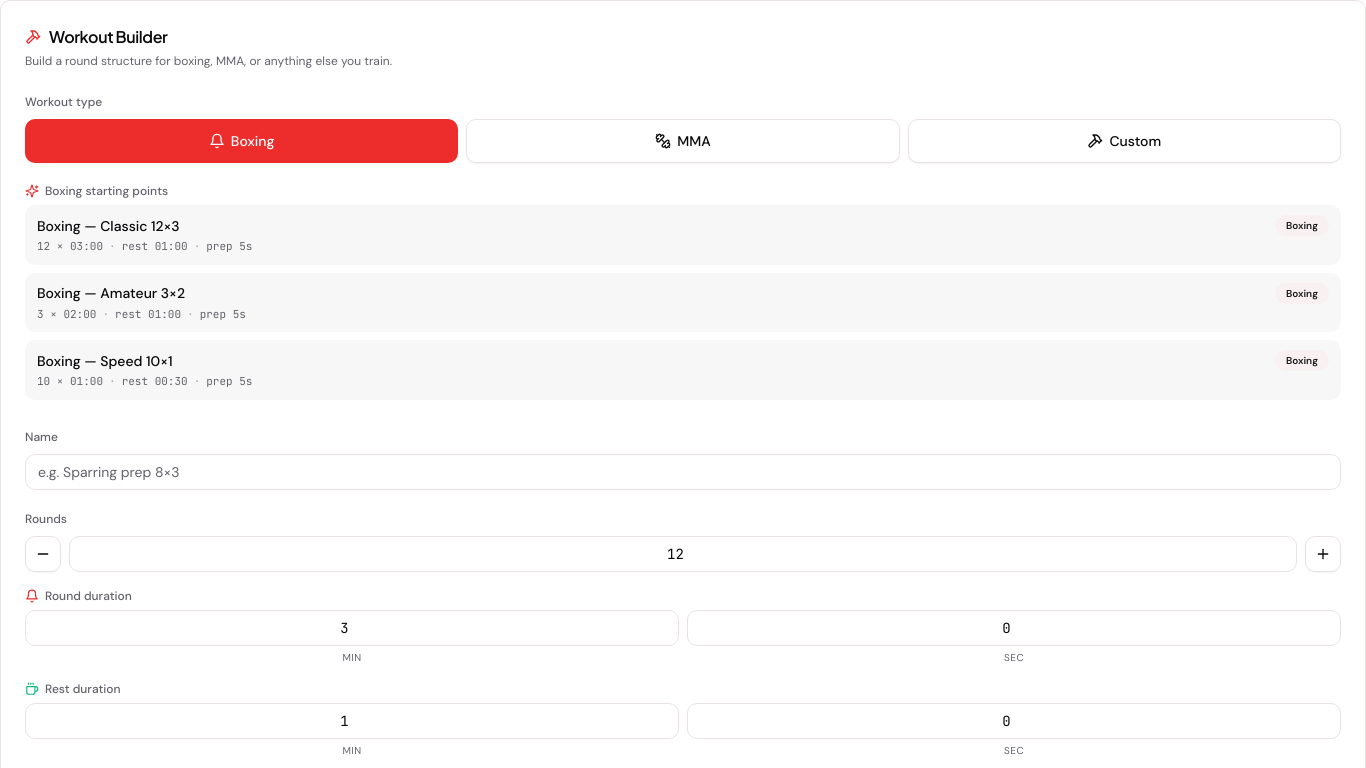
WorkoutBuilder › loads a starting point into the editable fields
The image size is (1366, 768).
Click the text "Boxing — Speed 10×1".
click(105, 360)  # box [37,350,173,370]
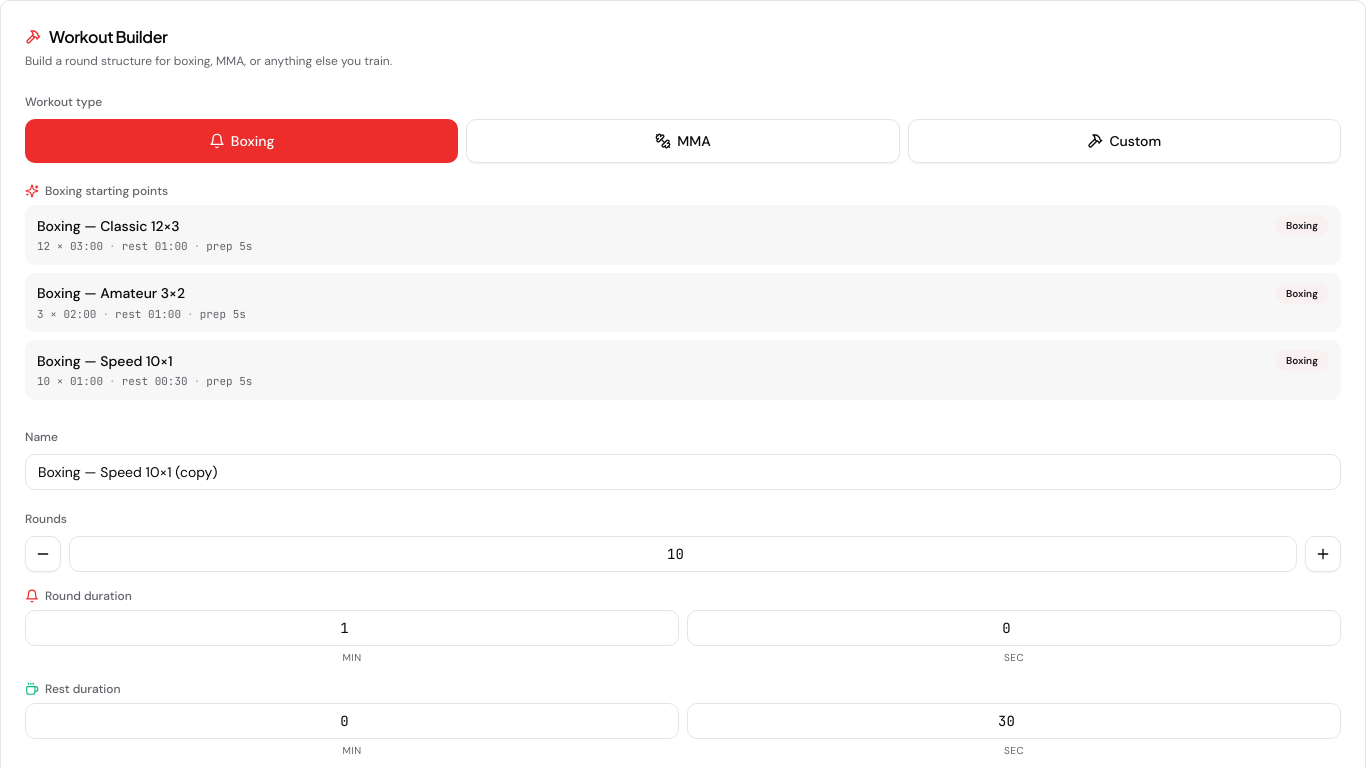
expect the number field named "Rounds" holds "10": met, box [69,536,1297,572]
expect the number field named "Round duration minutes" holds "1": met, box [25,610,679,646]
expect the number field named "Rest duration seconds" holds "30": met, box [687,702,1341,738]
